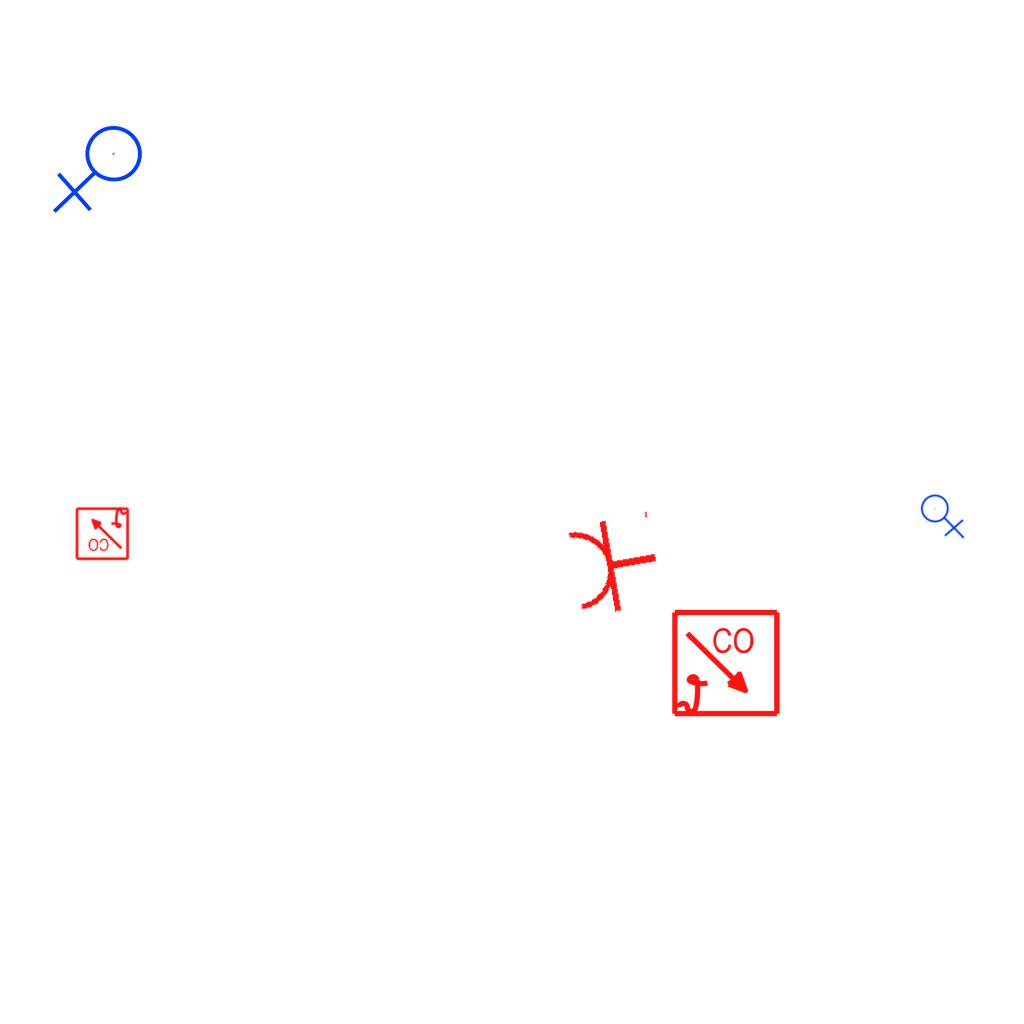Elektroanschluss_allgemein_230V_Geraeteanschlussdose_230V: (52, 124, 151, 218), (920, 490, 967, 539)
ROA_Rauchmelder_optisch_mit_Signalgeber_(Sockelsirene): (670, 608, 783, 721), (74, 505, 130, 561)
Schukosteckdose_einfach: (562, 506, 667, 620)
